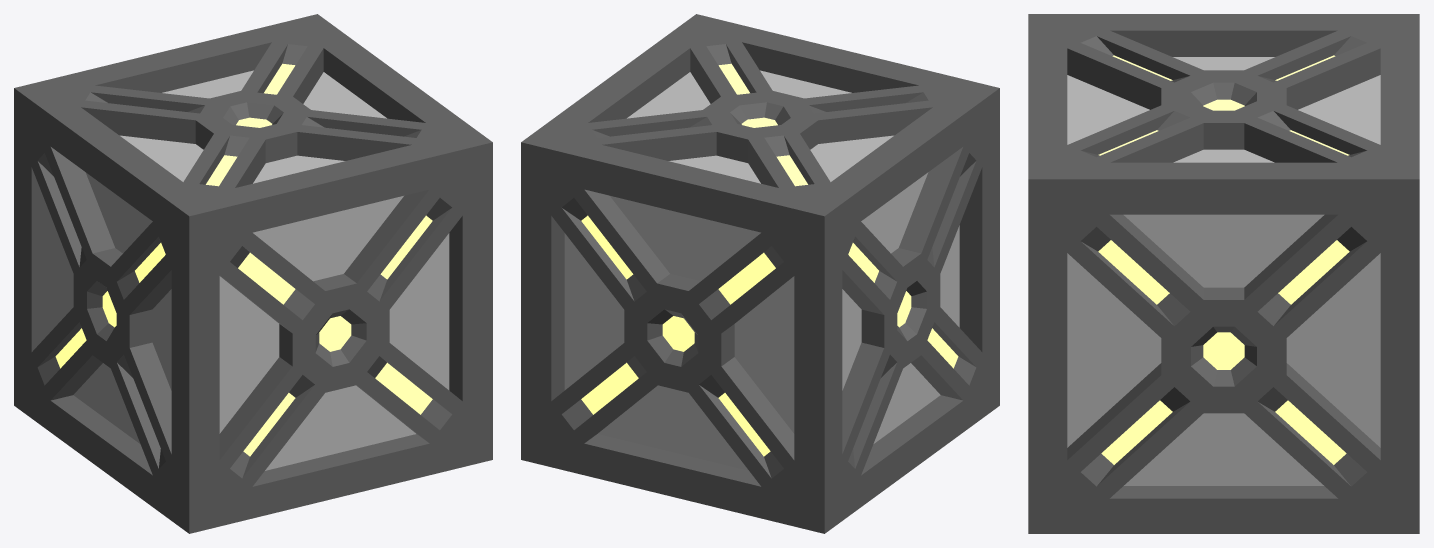
The model's file is crate.fbx.
The picture shows the model from 3 angles, left to right: view 1: azimuth 30°, elevation 25°; view 2: azimuth 150°, elevation 25°; view 3: azimuth 270°, elevation 25°; orthographic projection. The views are drawn at different scales.
Visible parts, largest first — view 1: Cube.005; view 2: Cube.005; view 3: Cube.005.
Part boxes in pixels (x1,y1,x2,y2): Cube.005: [14, 14, 492, 533]; Cube.005: [521, 14, 999, 533]; Cube.005: [1028, 14, 1419, 533].
Bounding box in the file's own units: 0.5 × 0.5 × 0.5.
